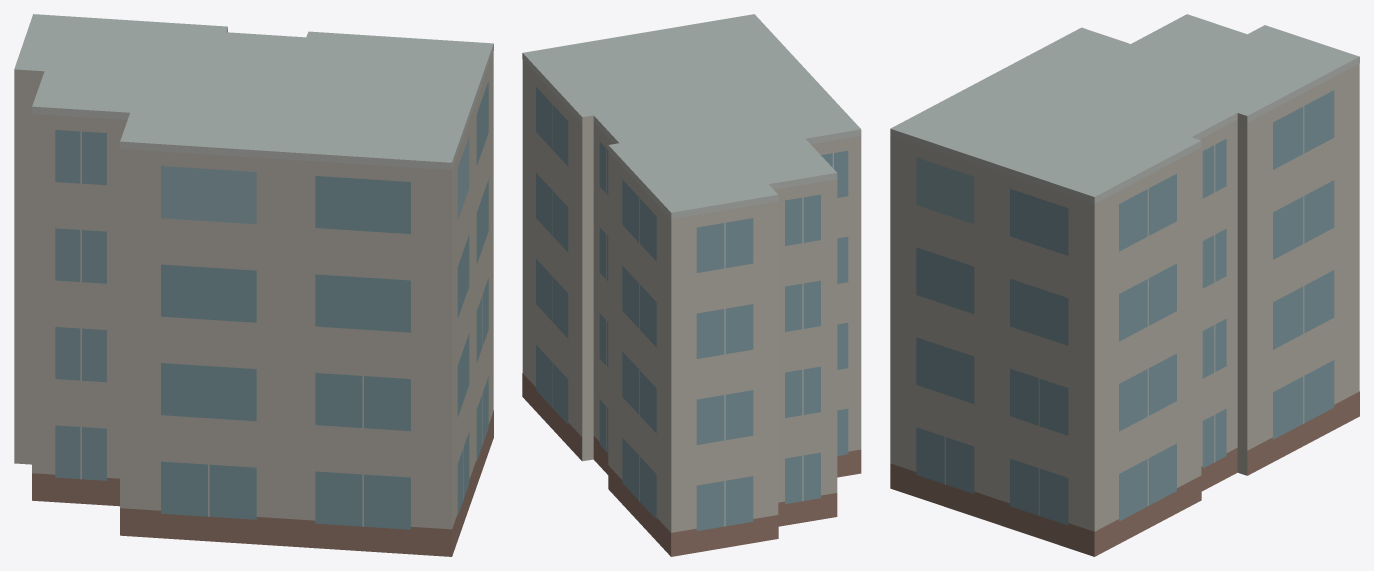
The model's file is survey-upis-32608677.glb.
3 renders of one model, left to right at view 1: azimuth 30°, elevation 25°; view 2: azimuth 150°, elevation 25°; view 3: azimuth 270°, elevation 25°, orthographic. The views are drawn at different scales.
Parts seen in each view (by area): view 1: survey-upis-32608677.tmp; view 2: survey-upis-32608677.tmp; view 3: survey-upis-32608677.tmp.
Boxes of the visible parts, x1,y1,x2,y2 form: survey-upis-32608677.tmp: [14, 14, 493, 556]; survey-upis-32608677.tmp: [522, 14, 861, 556]; survey-upis-32608677.tmp: [890, 14, 1359, 556].
Size of the model in its own units: 14.31 by 13.1 by 15.5.
